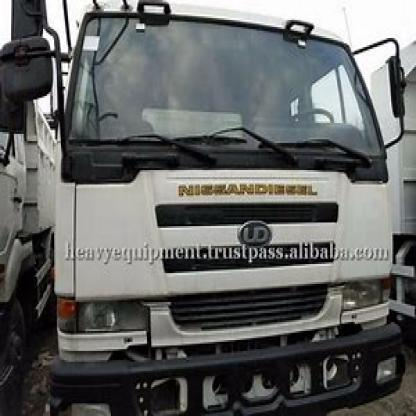dump_truck: (35, 9, 399, 412)
